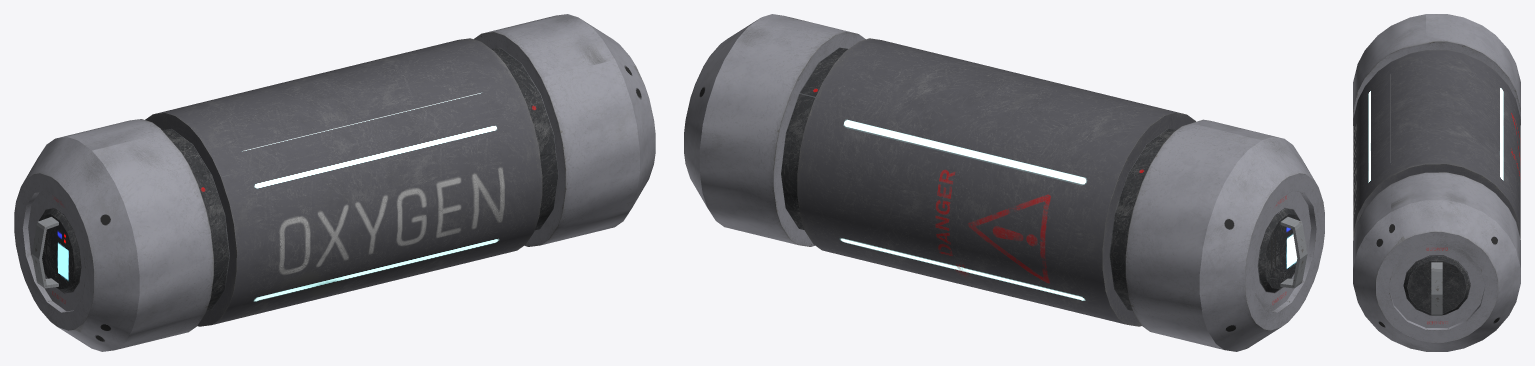
The picture shows the model from 3 angles, left to right: view 1: azimuth 30°, elevation 25°; view 2: azimuth 150°, elevation 25°; view 3: azimuth 270°, elevation 25°; orthographic projection. The views are drawn at different scales.
Parts seen in each view (by area): view 1: Oxygen Tank_Material #29_0; view 2: Oxygen Tank_Material #29_0; view 3: Oxygen Tank_Material #29_0.
Part boxes in pixels (x1=…): Oxygen Tank_Material #29_0: x1=14, y1=14, x2=655, y2=351; Oxygen Tank_Material #29_0: x1=684, y1=14, x2=1324, y2=351; Oxygen Tank_Material #29_0: x1=1353, y1=14, x2=1520, y2=351.
Bounding box in the file's own units: 1.82 × 0.5786 × 0.5774.
Materials: 1 (1 with a texture image).
